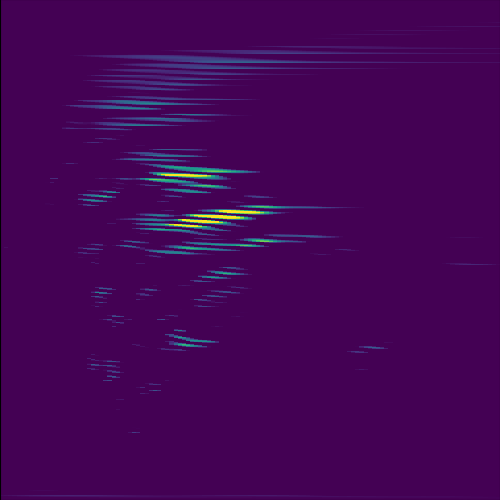semblance: (131, 204, 287, 236), (126, 164, 260, 194)
